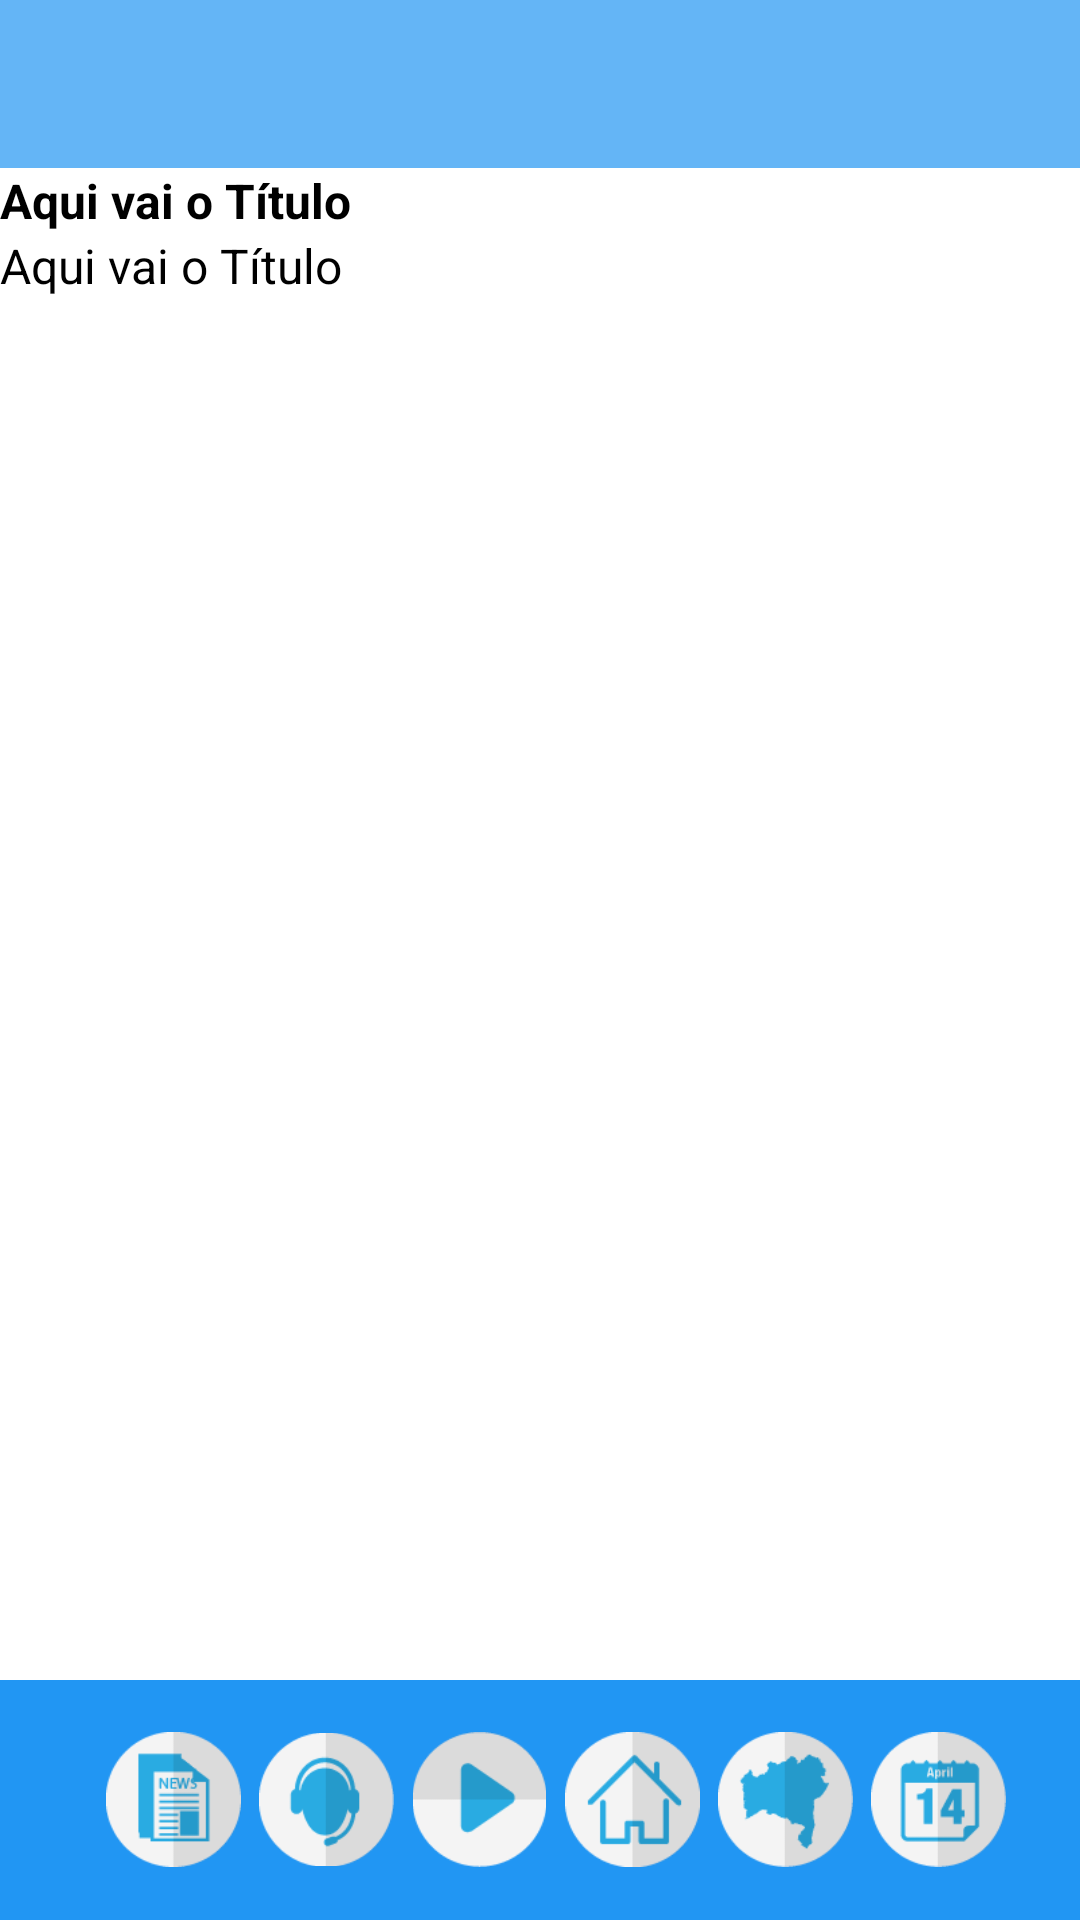

Icons on this 1080*1920 Android screen, each with the point to tap as (x,y):
agenda: (938,1799)
linhadir: (326,1799)
mapas: (785,1799)
portal: (632,1799)
webtv: (479,1799)
